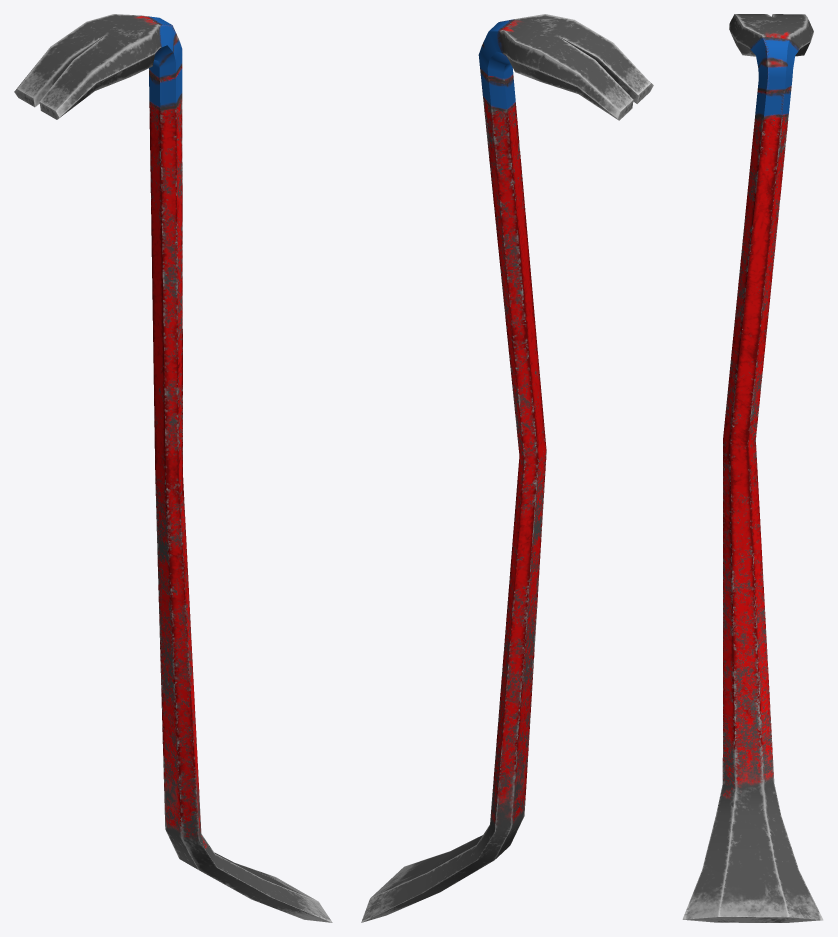
The model's file is Crowbar.fbx.
3 renders of one model, left to right at view 1: azimuth 30°, elevation 25°; view 2: azimuth 150°, elevation 25°; view 3: azimuth 270°, elevation 25°, orthographic. The views are drawn at different scales.
Parts seen in each view (by area): view 1: Cube; view 2: Cube; view 3: Cube.
Boxes of the visible parts, bbox=[...] form: Cube: bbox=[14, 14, 332, 922]; Cube: bbox=[361, 14, 653, 922]; Cube: bbox=[682, 14, 823, 922].
Size of the model in its own units: 29.34 by 15.13 by 98.78.
